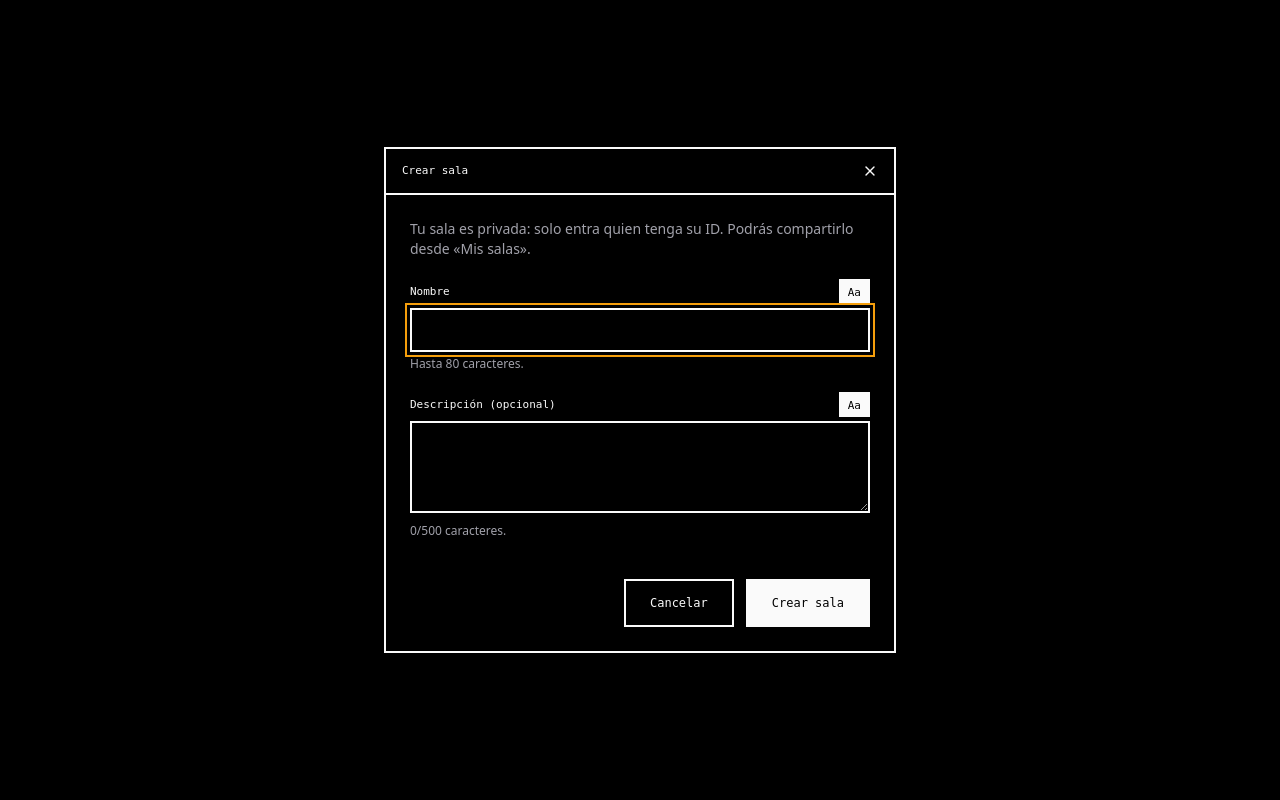
Test case: DialogoCrearSala (US-06) › un fallo general se muestra como aviso y deja intentar de nuevo
Type "Algo" into the field labelled "Nombre".
click(640, 330); type("Algo")  # box [410, 308, 870, 352]
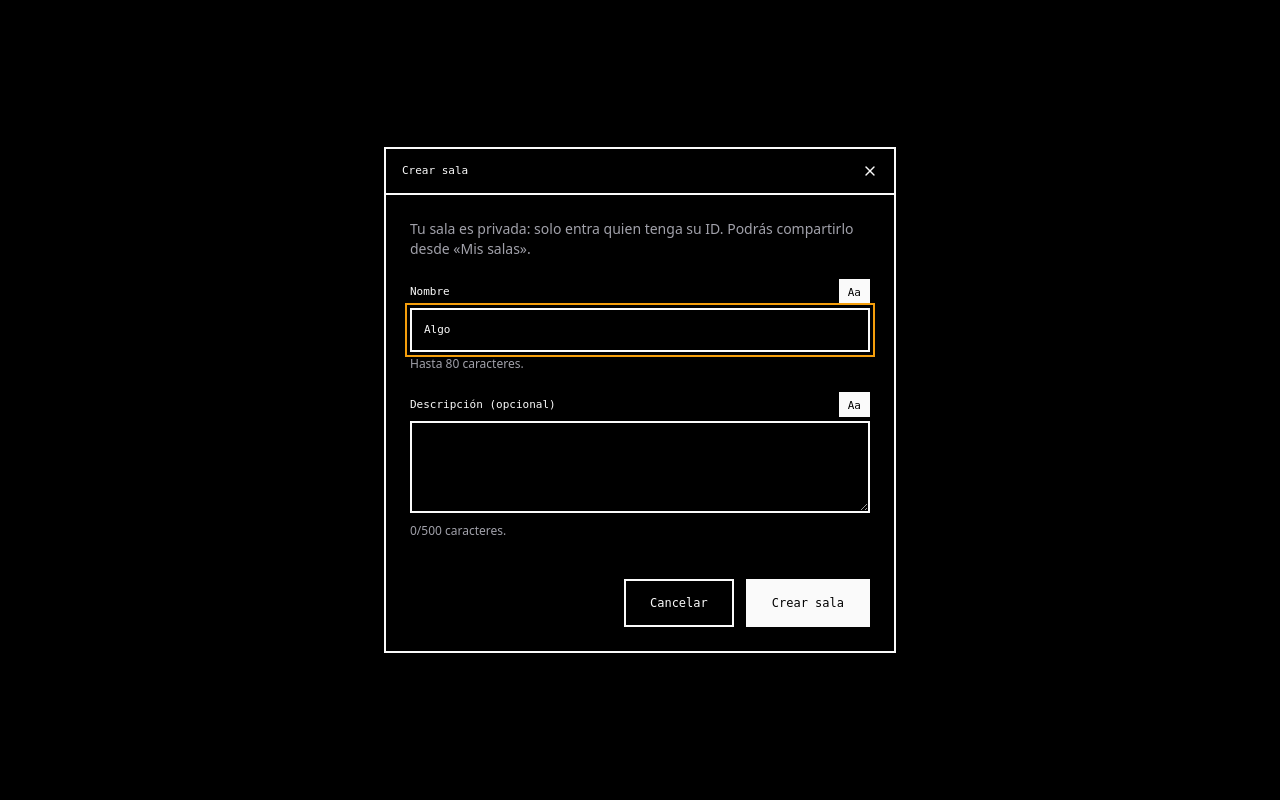
Click the button "Crear sala".
click(808, 603)  # box [746, 579, 870, 627]
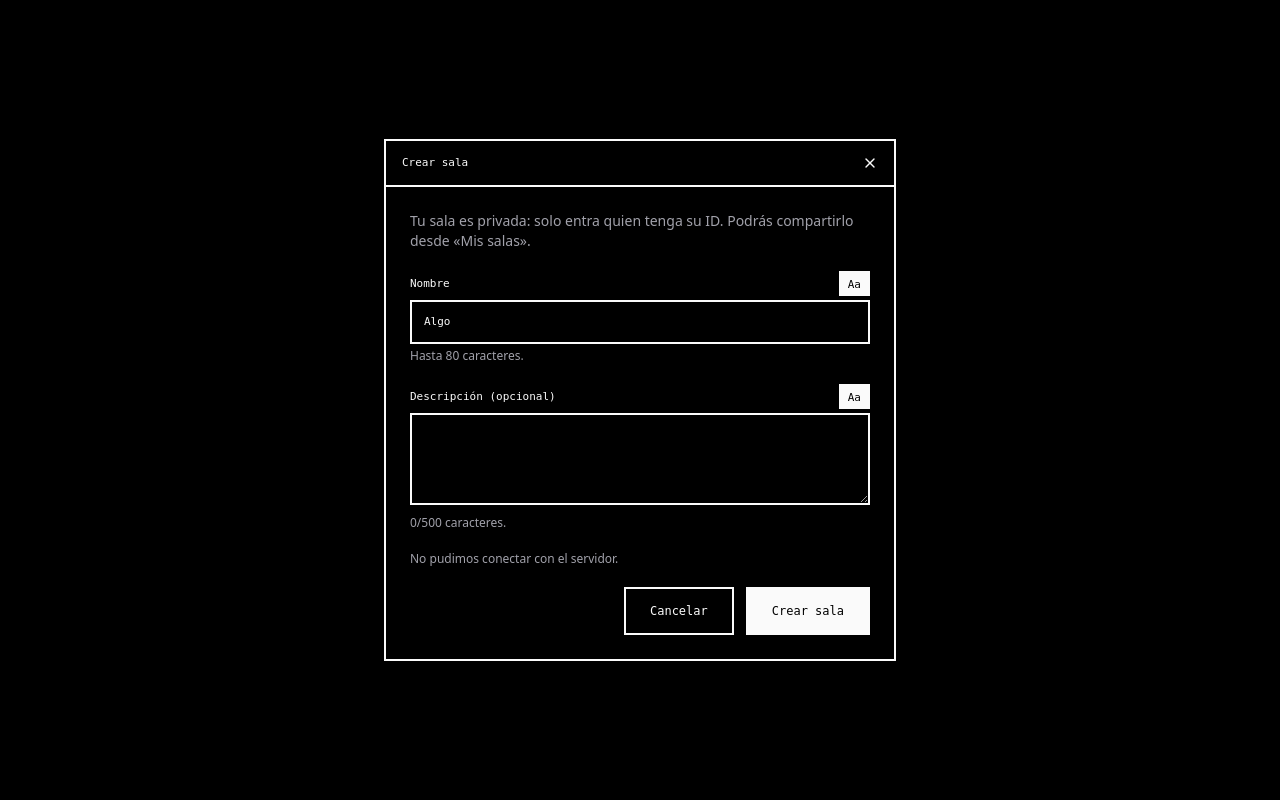
Check: the message reads "No pudimos conectar con el servidor.", box [410, 550, 618, 567]
